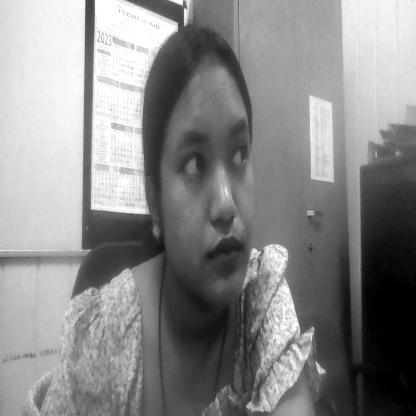Distracted: (168, 93, 270, 333)
